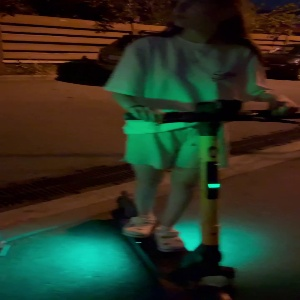human on a scooter: (104, 1, 300, 300)
